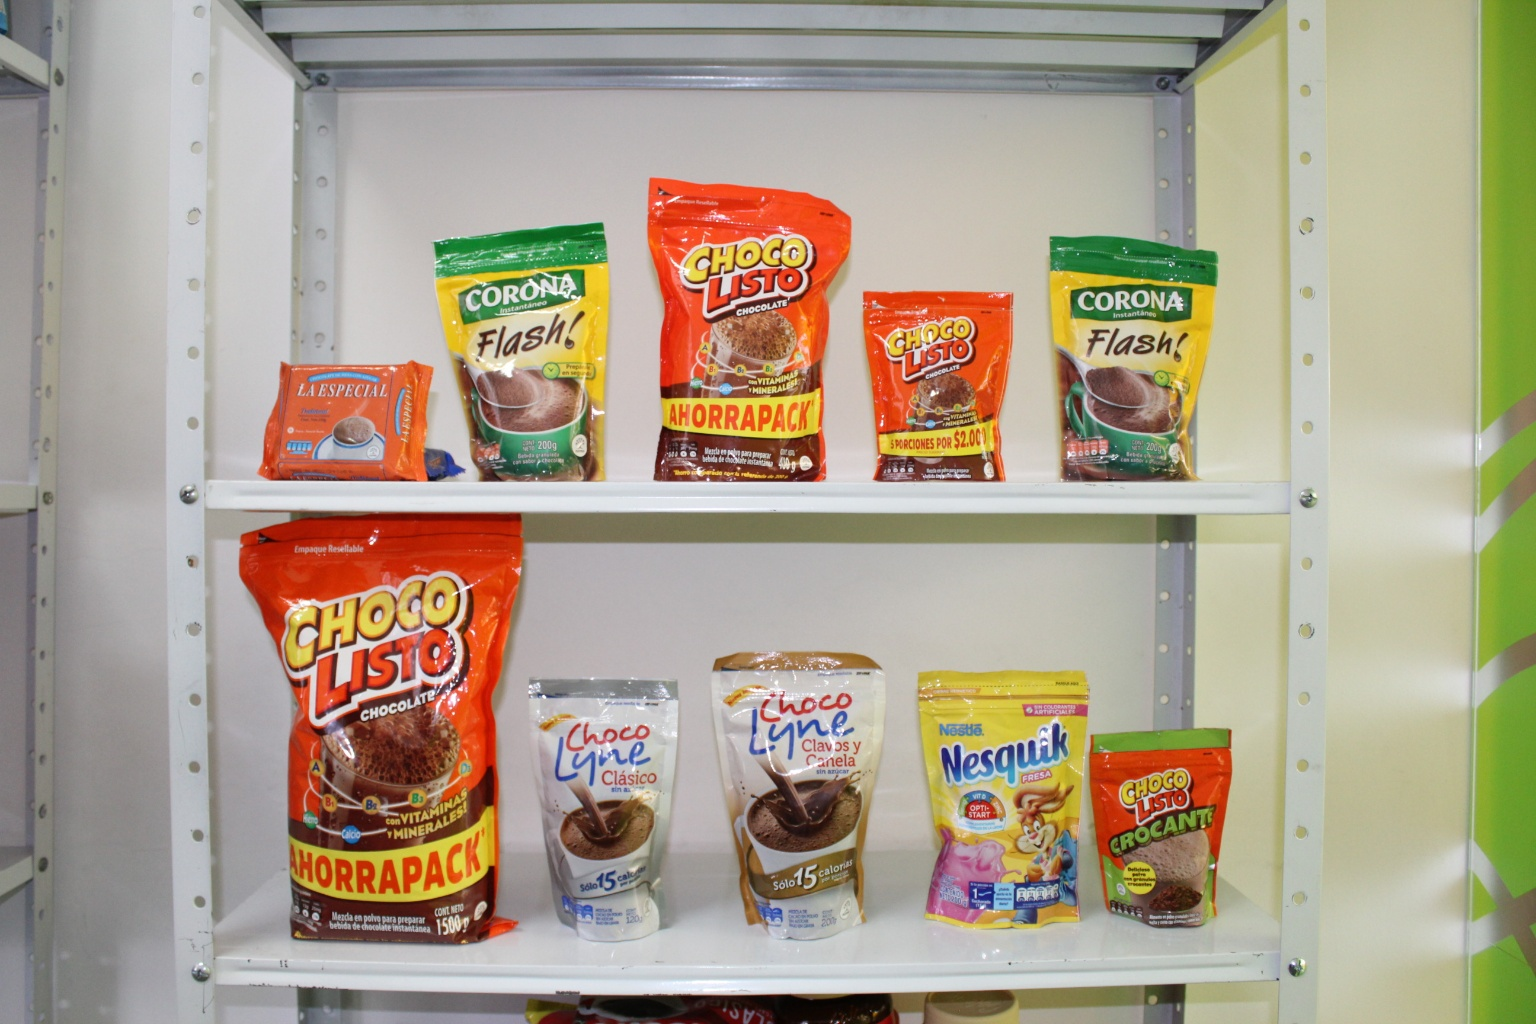COL0170102DYP10000: (1093, 728, 1249, 941)
COL0170103DYP1,500: (226, 518, 522, 960)
COL0170103DYP10000: (863, 287, 1013, 481)
COL0170103DYP40000: (639, 170, 854, 482)
COL0170305DYP20000: (910, 667, 1093, 942)
